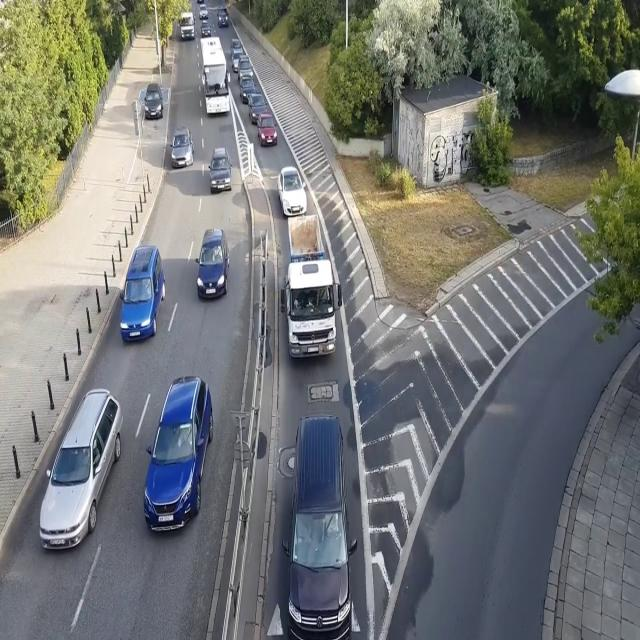bus: (200, 36, 231, 119)
car: (38, 387, 123, 552), (142, 373, 213, 538), (195, 226, 231, 299), (278, 167, 308, 218), (209, 146, 232, 192), (170, 127, 194, 166), (143, 81, 165, 120), (257, 113, 279, 144), (248, 91, 268, 123), (237, 55, 253, 82), (242, 74, 256, 104), (232, 50, 245, 72), (231, 35, 243, 55), (200, 22, 212, 38), (199, 3, 210, 19)
truck: (278, 214, 342, 360), (176, 11, 196, 41)
van: (280, 413, 358, 640), (120, 243, 167, 344), (216, 5, 230, 27)
